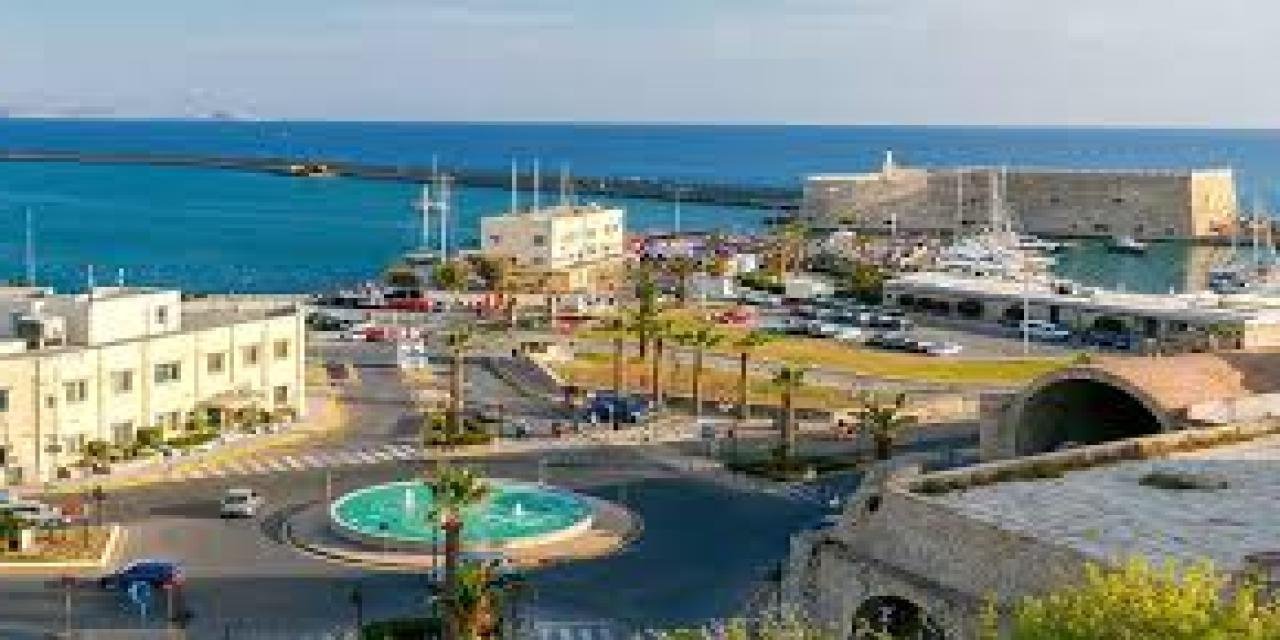Kules: (804, 156, 1235, 243)
